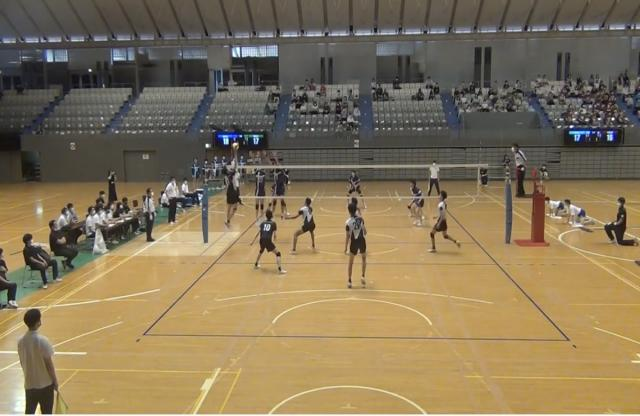spike: (220, 140, 242, 232)
